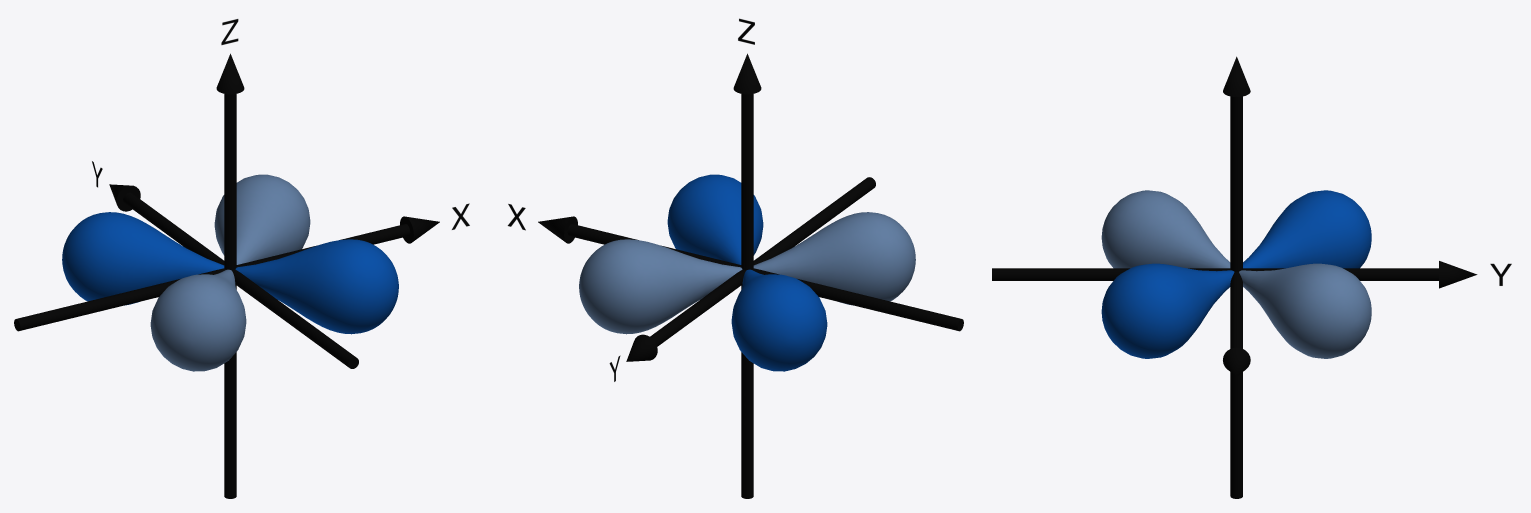
3 views of the same model, side by side, from view 1: azimuth 30°, elevation 25°; view 2: azimuth 150°, elevation 25°; view 3: azimuth 270°, elevation 25° (orthographic).
Visible parts, largest first — view 1: D2_Orbital; view 2: D2_Orbital; view 3: D2_Orbital.
Boxes of the visible parts, x1,y1,x2,y2 form: D2_Orbital: (14,53,439,498); D2_Orbital: (538,53,963,498); D2_Orbital: (992,56,1477,498).
Size of the model in its own units: 93.5 by 93.5 by 93.5.
Materials: 2 (2 with a texture image).
